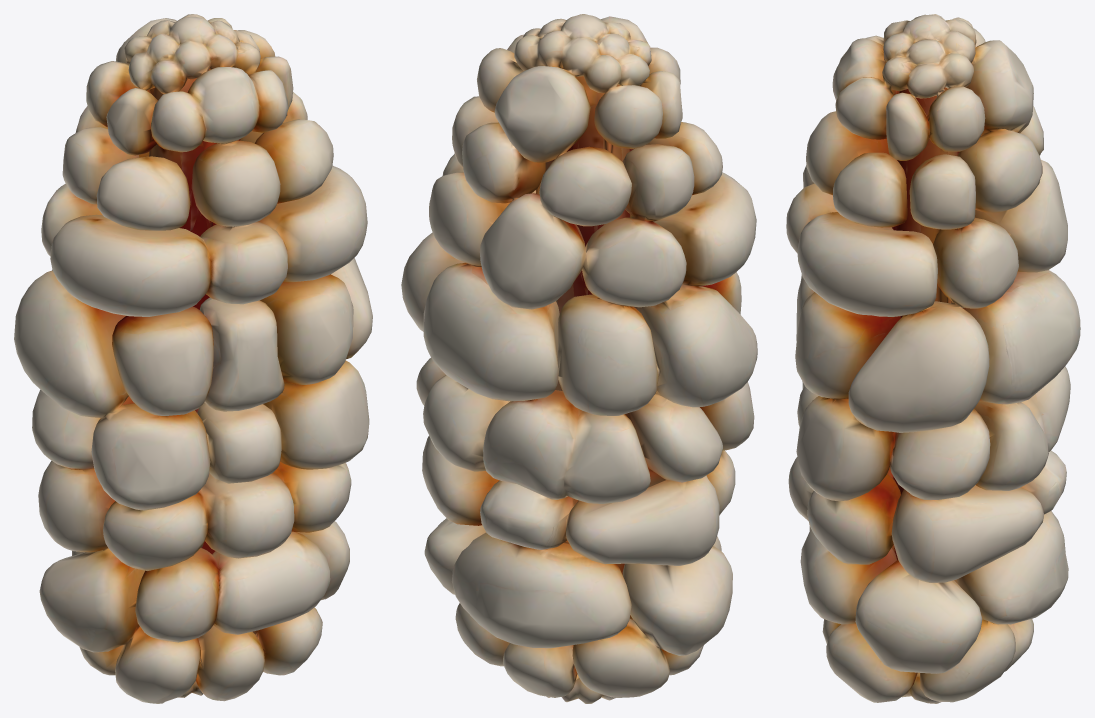
The model's file is carpals.glb.
3 views of the same model, side by side, from view 1: azimuth 30°, elevation 25°; view 2: azimuth 150°, elevation 25°; view 3: azimuth 270°, elevation 25° (orthographic).
Parts seen in each view (by area): view 1: carpals; view 2: carpals; view 3: carpals.
Boxes of the visible parts, left/top/right/bottom form: carpals: left=14, top=14, right=372, bottom=703; carpals: left=401, top=14, right=757, bottom=703; carpals: left=786, top=14, right=1080, bottom=703.
Size of the model in its own units: 0.5078 by 1 by 0.3968.
1 material, 1 textured.
